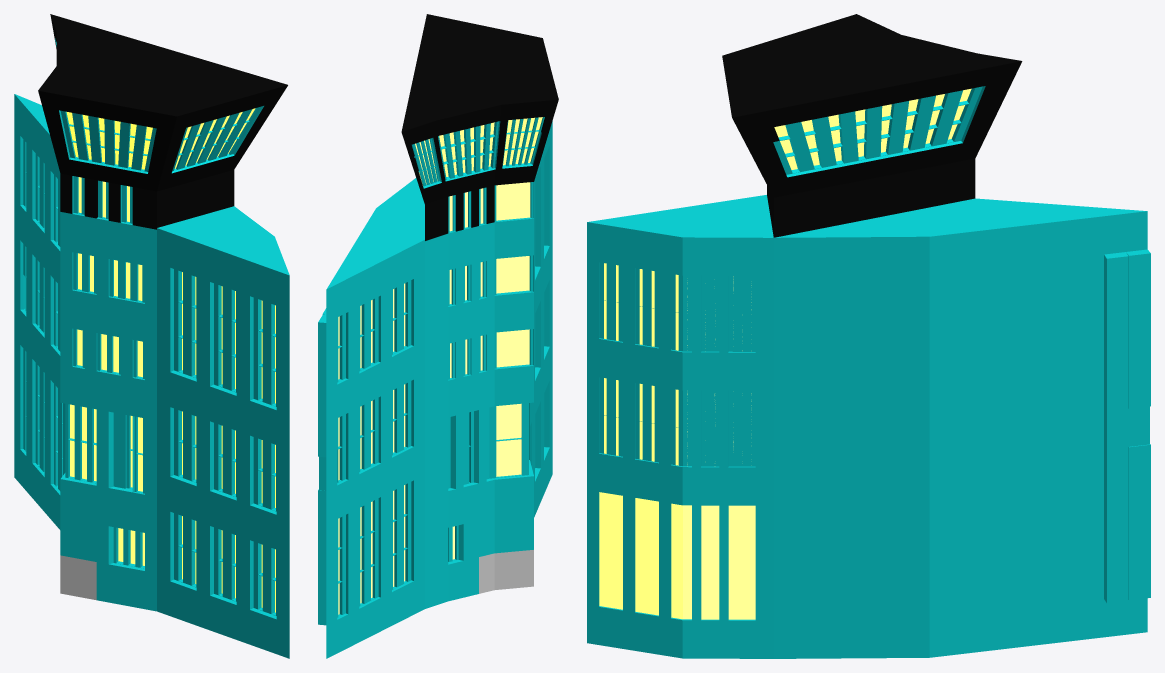
Rendered from smart_tower.fbx.
3 views of the same model, side by side, from view 1: azimuth 30°, elevation 25°; view 2: azimuth 150°, elevation 25°; view 3: azimuth 270°, elevation 25° (orthographic). The views are drawn at different scales.
Visible parts, largest first — view 1: Plane; view 2: Plane; view 3: Plane.
Boxes of the visible parts, box(x1,y1,x2,y2) form: Plane: box(14, 14, 289, 658); Plane: box(318, 14, 558, 658); Plane: box(587, 14, 1150, 658).
Size of the model in its own units: 555 by 1396 by 1274.
